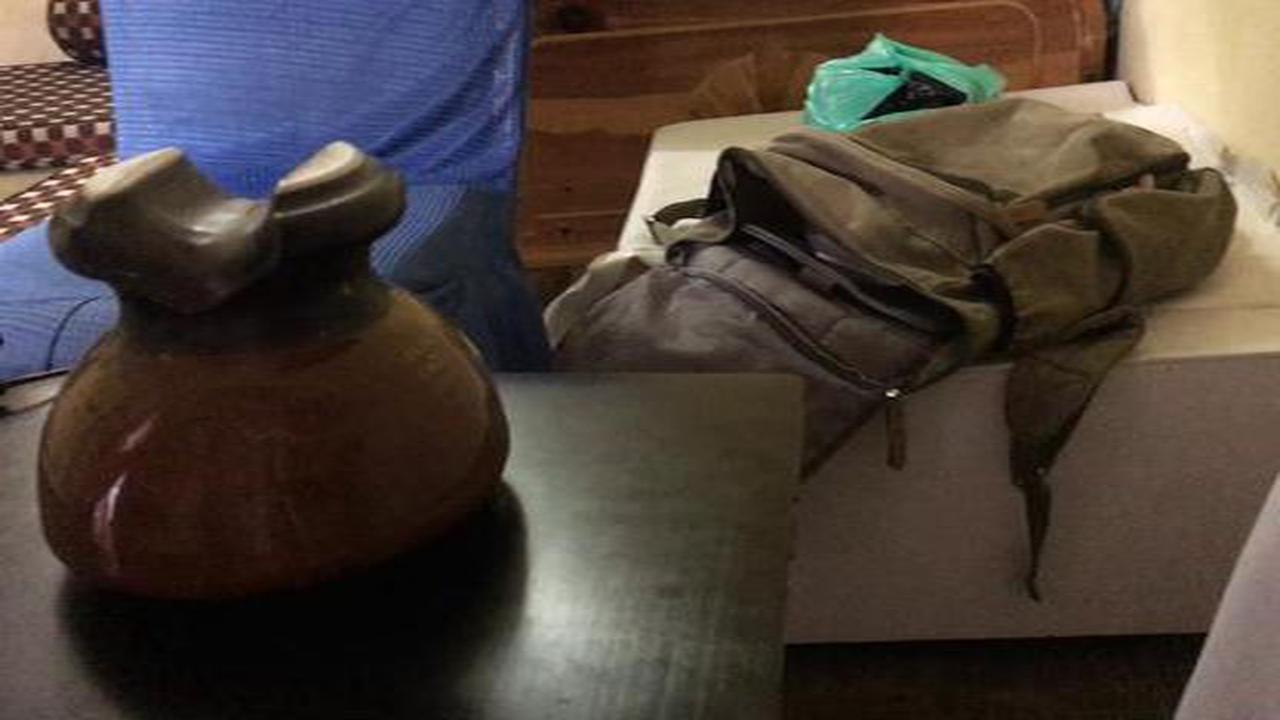insulator_pin: (25, 125, 527, 639)
